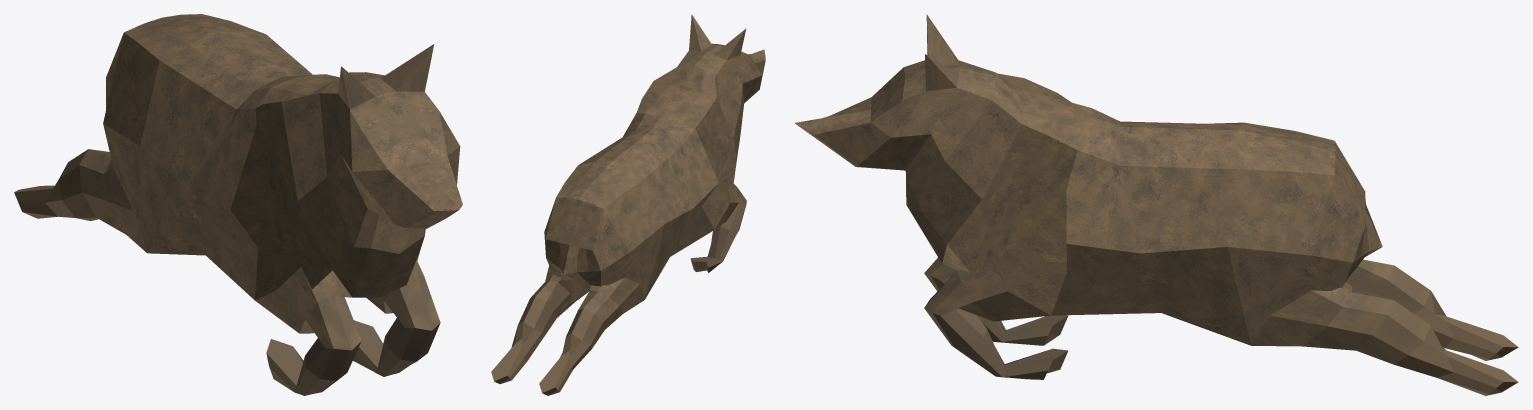
The model's file is piesblend_000018.obj.
3 views of the same model, side by side, from view 1: azimuth 30°, elevation 25°; view 2: azimuth 150°, elevation 25°; view 3: azimuth 270°, elevation 25° (orthographic). The views are drawn at different scales.
Parts seen in each view (by area): view 1: Cube; view 2: Cube; view 3: Cube.
Boxes of the visible parts, x1,y1,x2,y2 form: Cube: (14, 14, 462, 395); Cube: (491, 14, 765, 395); Cube: (794, 14, 1518, 395).
Bounding box in the file's own units: 2.56 × 5.75 × 11.
Materials: 1 (1 with a texture image).
